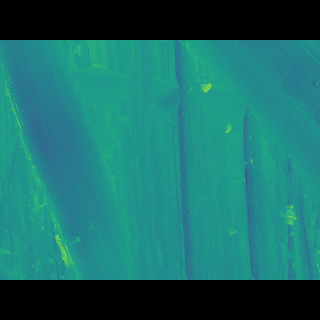Loch: (0, 70, 136, 249), (184, 69, 319, 182)
